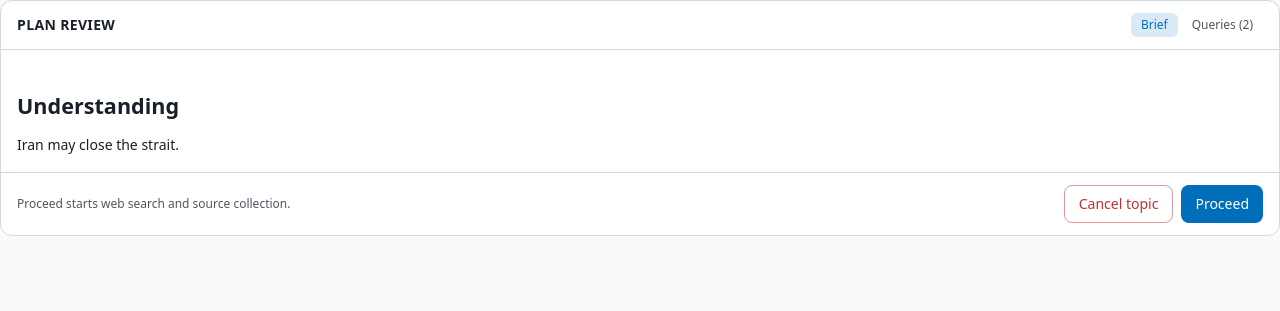
Test: PlanReview › surfaces a rejected decision instead of failing silently
Click the button "Proceed" at (1222, 204), box [1181,185,1263,223]
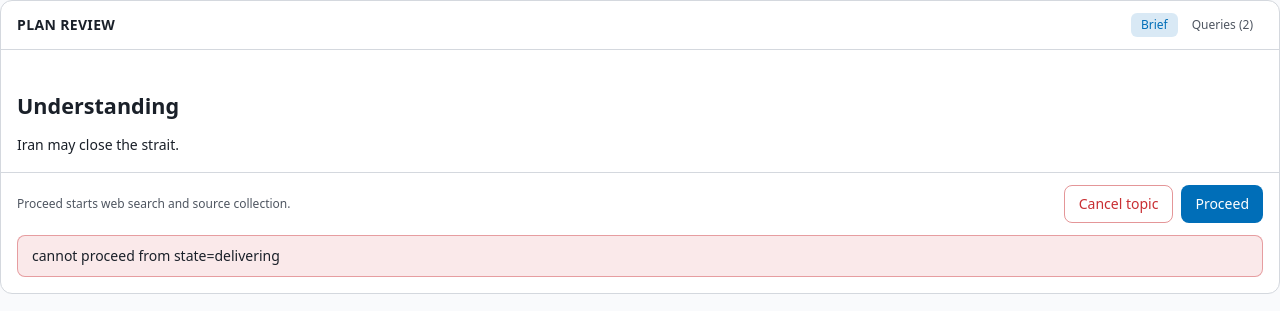
Now the message reads "cannot proceed from state=delivering", box [32,246,280,265]
